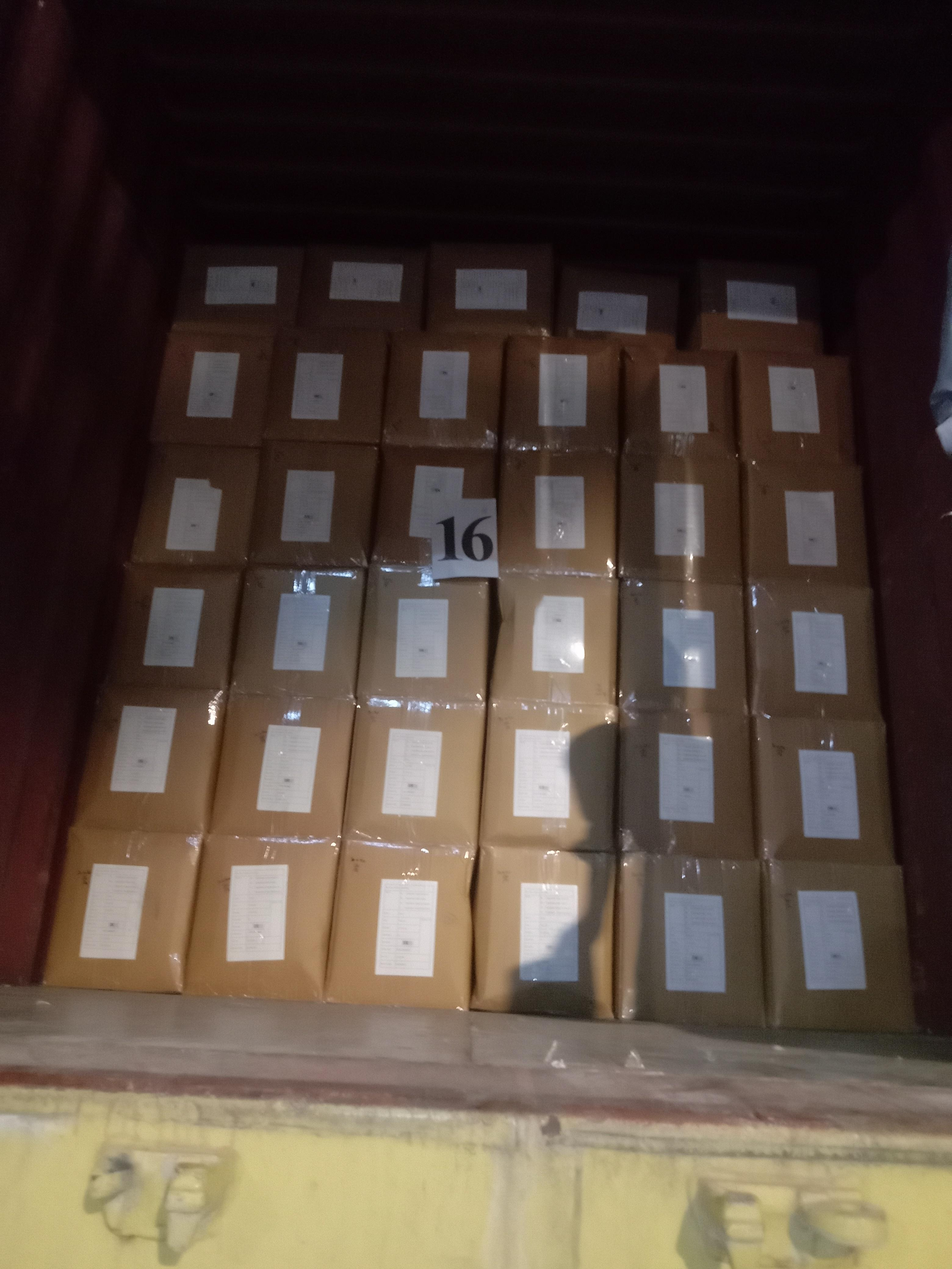carton: (44, 826, 201, 993), (762, 860, 914, 1032), (184, 834, 339, 1001), (614, 853, 763, 1026), (325, 840, 474, 1010), (471, 847, 615, 1019), (76, 685, 225, 834), (343, 699, 485, 850), (479, 699, 617, 853), (211, 692, 354, 840), (751, 716, 893, 865), (617, 709, 754, 859), (745, 579, 880, 719), (357, 563, 489, 704), (618, 578, 748, 714), (232, 567, 365, 698), (106, 564, 241, 690), (489, 574, 618, 705), (249, 440, 378, 569), (741, 462, 869, 587), (618, 454, 741, 584), (131, 444, 259, 568), (497, 447, 617, 577), (151, 323, 274, 447), (373, 445, 496, 566), (382, 332, 503, 450), (265, 329, 389, 444), (501, 336, 619, 455), (737, 352, 855, 465), (622, 347, 735, 459), (688, 260, 822, 354), (426, 243, 554, 336), (297, 245, 426, 332), (175, 244, 304, 327), (556, 265, 679, 349)
